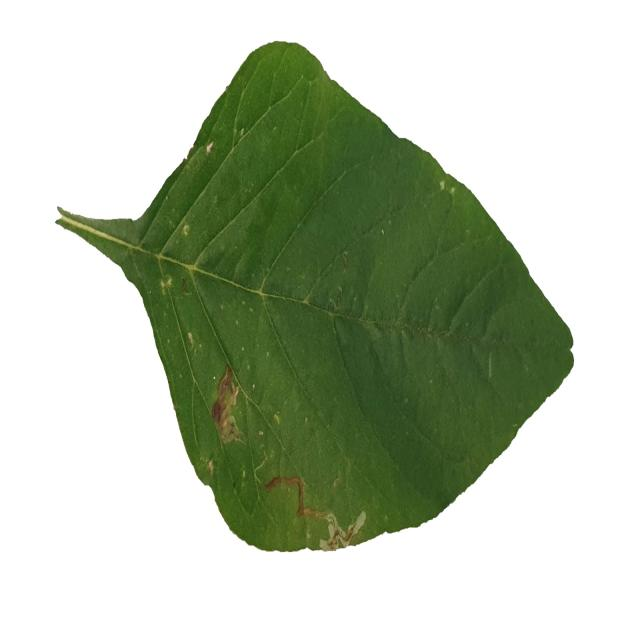Medicinal-Arive Dantu: (57, 36, 577, 551)
